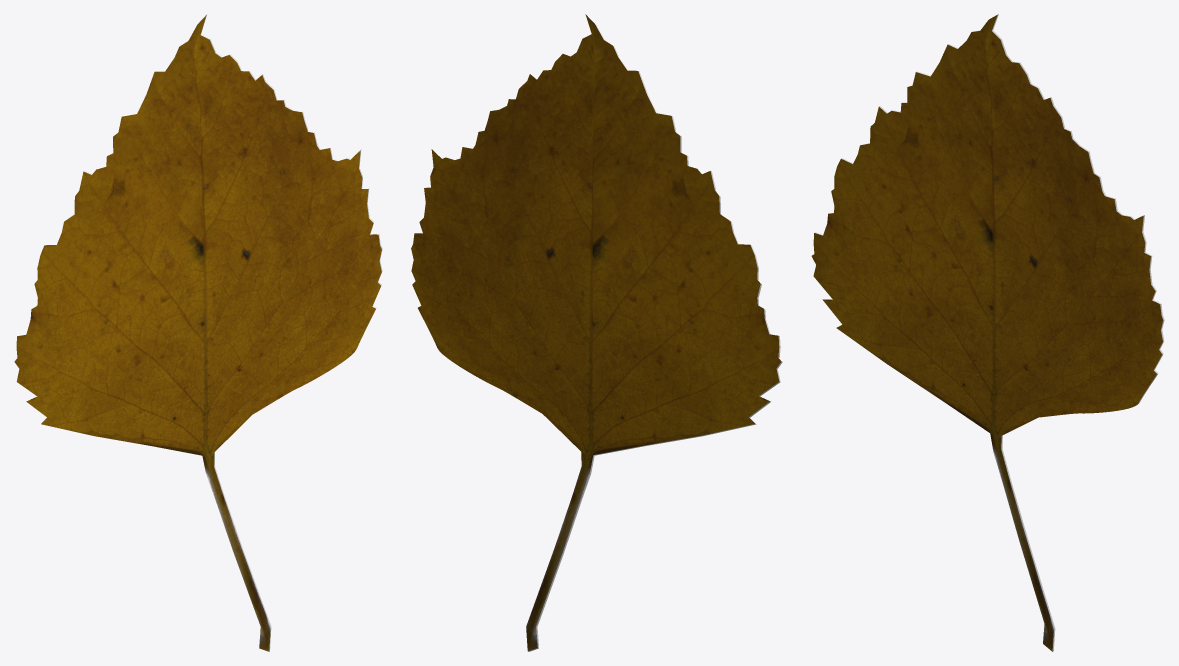
Rendered from autumn.glb.
3 views of the same model, side by side, from view 1: azimuth 30°, elevation 25°; view 2: azimuth 150°, elevation 25°; view 3: azimuth 330°, elevation 25° (orthographic). The views are drawn at different scales.
Parts seen in each view (by area): view 1: BezierCurve.001_2; view 2: BezierCurve.001_2; view 3: BezierCurve.001_2.
Boxes of the visible parts, left/top/right/bottom form: BezierCurve.001_2: left=14, top=14, right=382, bottom=651; BezierCurve.001_2: left=411, top=14, right=782, bottom=651; BezierCurve.001_2: left=811, top=14, right=1164, bottom=651.
Bounding box in the file's own units: 0.0297 × 0.05 × 0.000428.
1 material, 1 textured.
